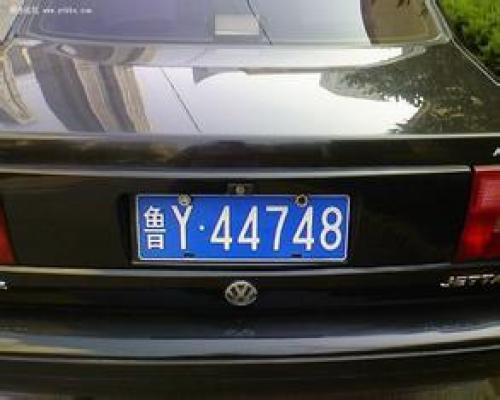Carplate: (124, 185, 356, 271)
